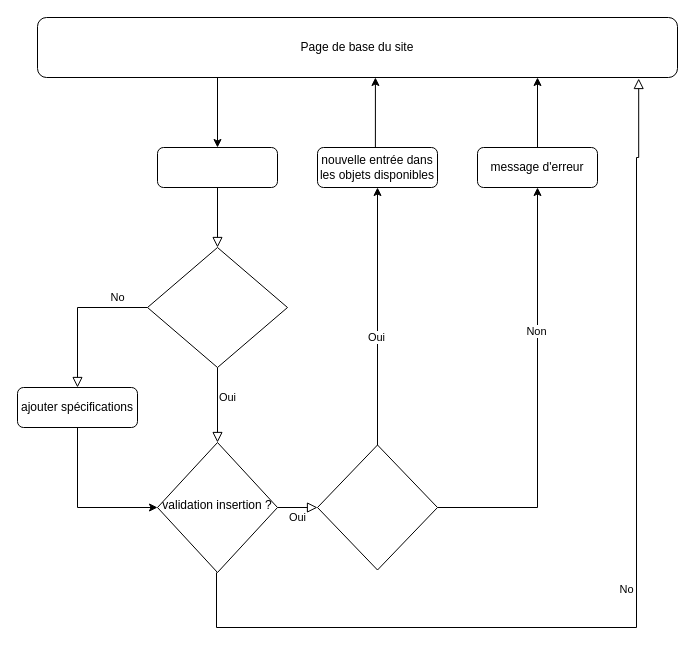
Image size: 695x655. Some labels were removed from this diagram. Each missing label, with the centre of its shape:
"ajouter un objet" goes at point 217,167.
"déjà existant ?" goes at point 217,307.
"insertion réussie ?" goes at point 377,507.
